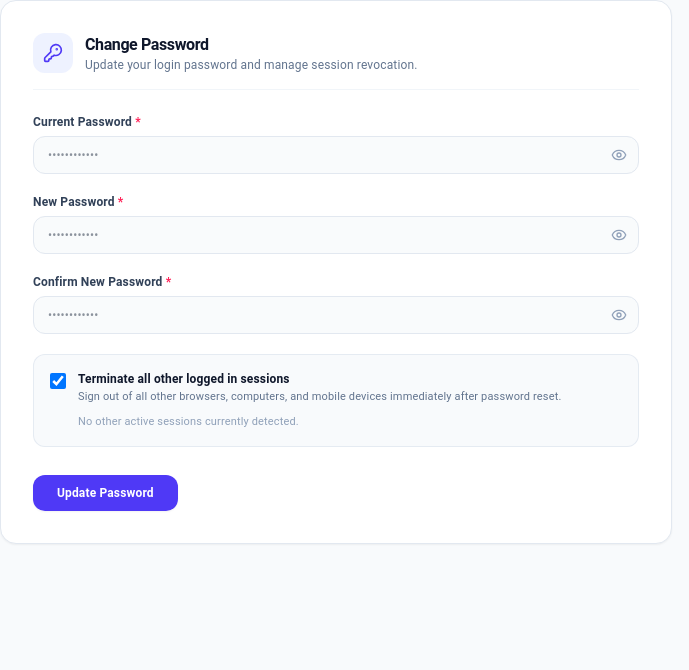
ChangePasswordSection Component › validates password matching and length
The width and height of the screenshot is (689, 670).
Type "oldPassword123" into the password field with placeholder "••••••••••••" below "Current Password" at [336, 155], box [33,136,639,174]
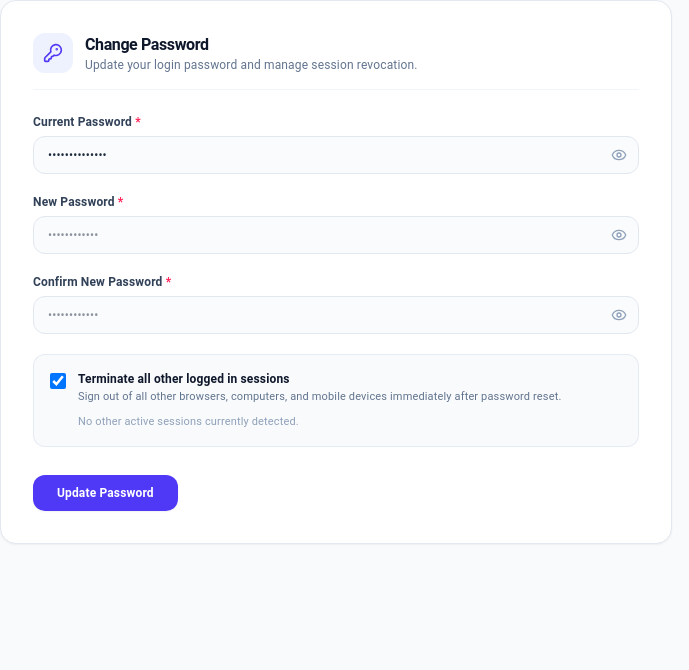
Type "short" into the 1st password field with placeholder "••••••••••••" at [336, 235], box [33,216,639,254]
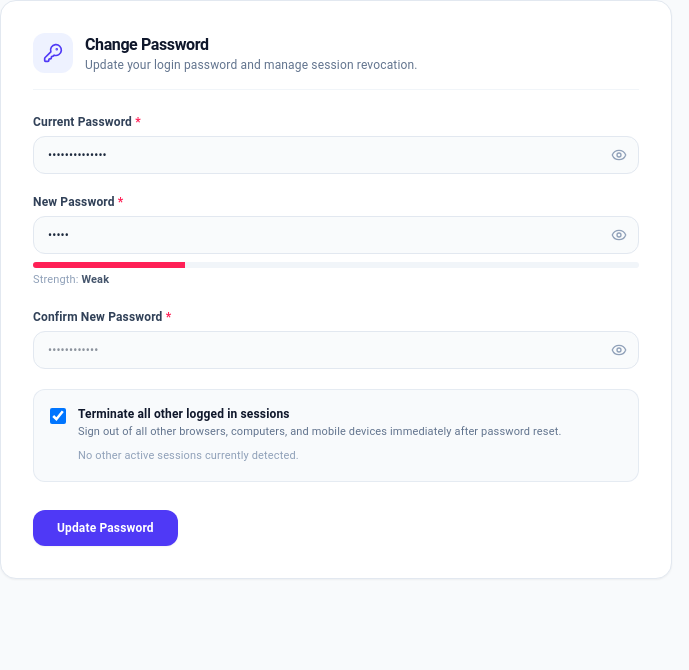
Type "mismatch" into the password field with placeholder "••••••••••••" at [336, 350], box [33,330,639,368]
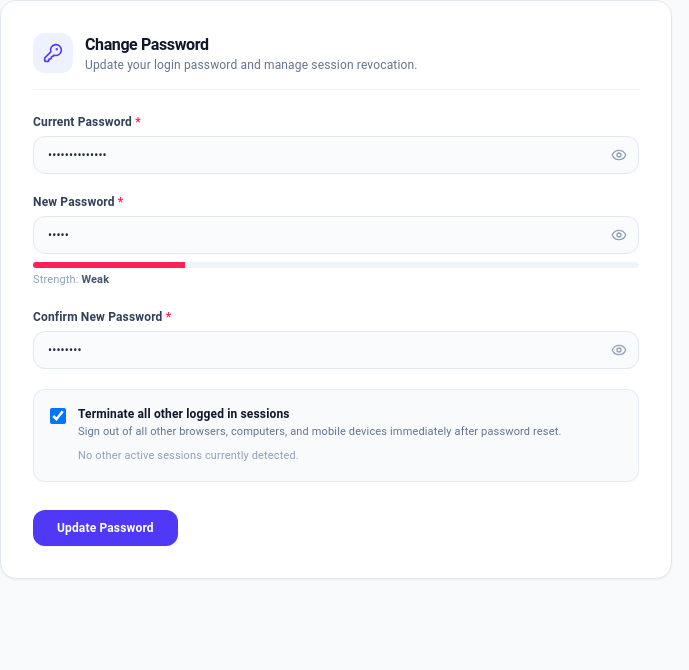
Click the button "Update Password" at [105, 528], box [33,510,178,546]
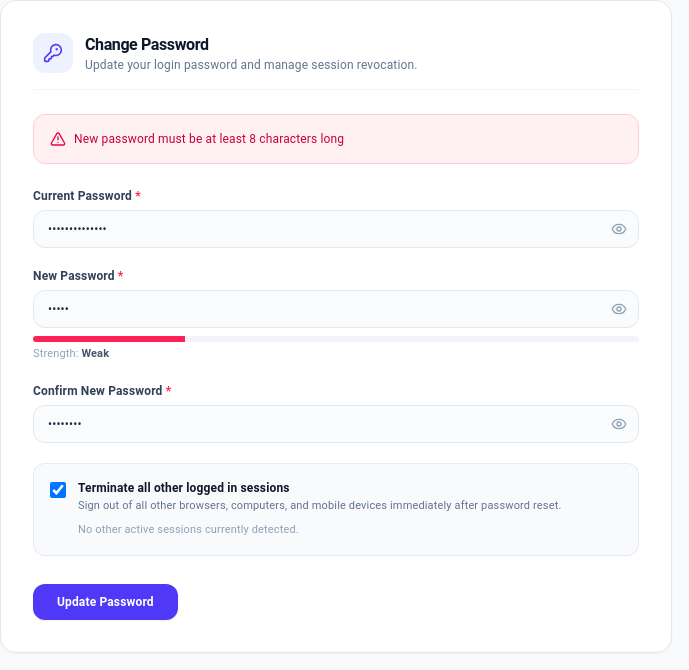
Result: the text "New password must be at least 8 characters long" is shown at [74,131,344,147]
